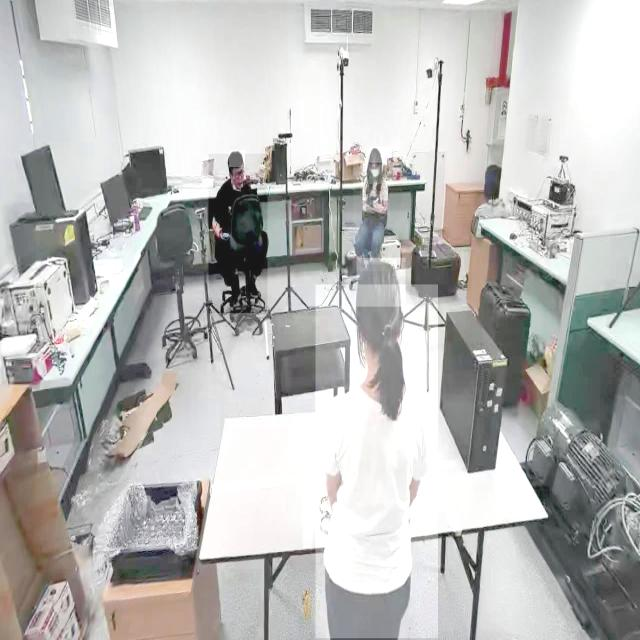face_mask: (369, 164, 382, 184)
face_nomask: (231, 168, 245, 188)
glasses: (233, 166, 245, 182)
head_nohelmet: (356, 258, 406, 308), (229, 150, 245, 168), (369, 146, 383, 164)
person: (315, 285, 438, 639), (208, 154, 268, 314), (352, 147, 390, 271)
